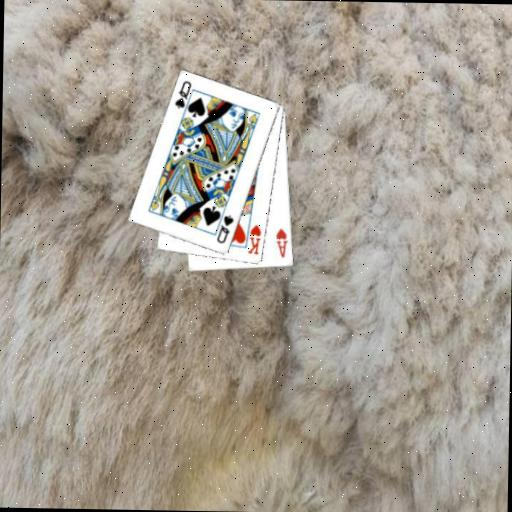AH: (273, 226, 289, 260)
KH: (245, 222, 264, 256)
QS: (214, 212, 236, 246), (172, 78, 193, 111)
